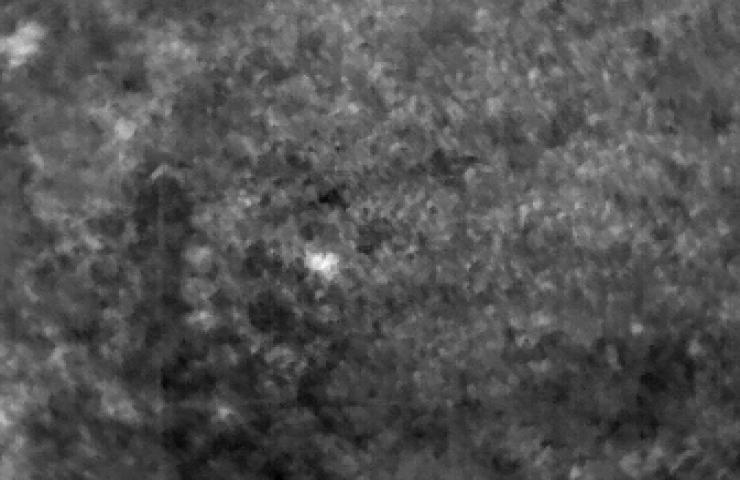landmines: (299, 244, 343, 282)
